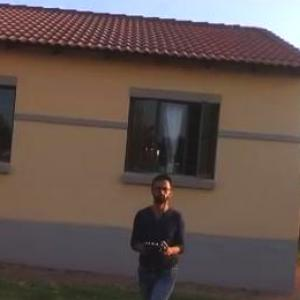follow: (125, 168, 189, 299)
